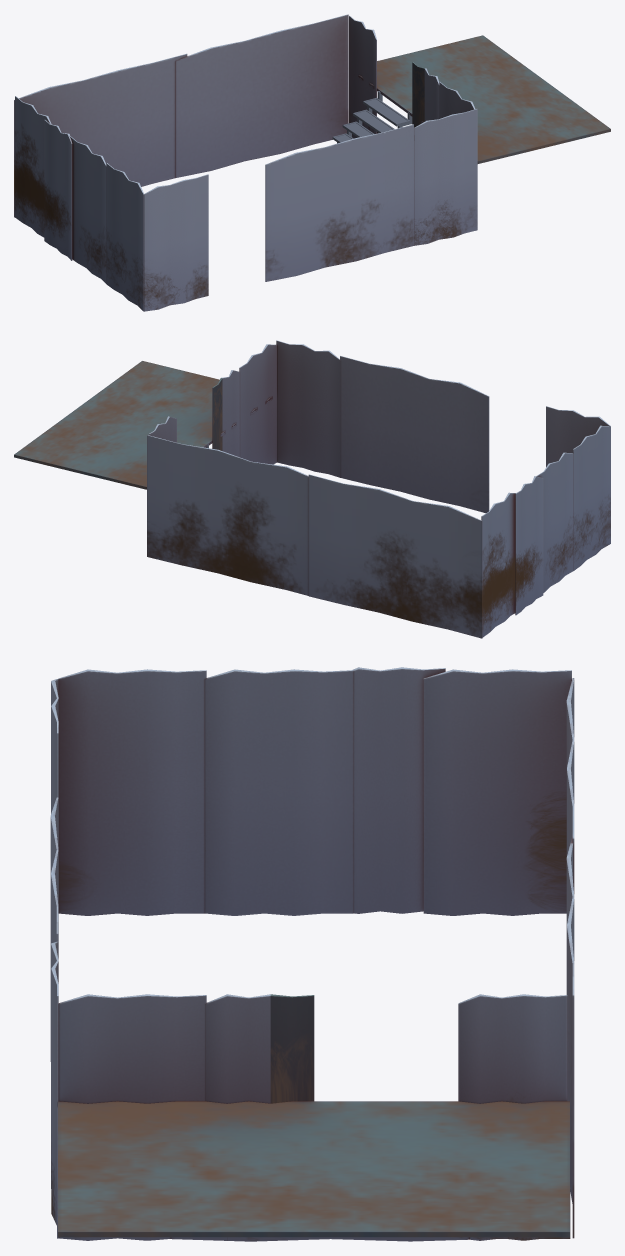
Rendered from Building1.glb.
The picture shows the model from 3 angles, top to bottom: view 1: azimuth 30°, elevation 25°; view 2: azimuth 150°, elevation 25°; view 3: azimuth 270°, elevation 25°; orthographic projection. The views are drawn at different scales.
Visible parts, largest first — view 1: Building1; view 2: Building1; view 3: Building1.
Boxes of the visible parts, left/top/right/bottom form: Building1: left=14, top=14, right=610, bottom=311; Building1: left=14, top=340, right=610, bottom=638; Building1: left=50, top=667, right=574, bottom=1241.
Bounding box in the file's own units: 8.48 × 2.11 × 4.09.
Materials: 1 (1 with a texture image).
